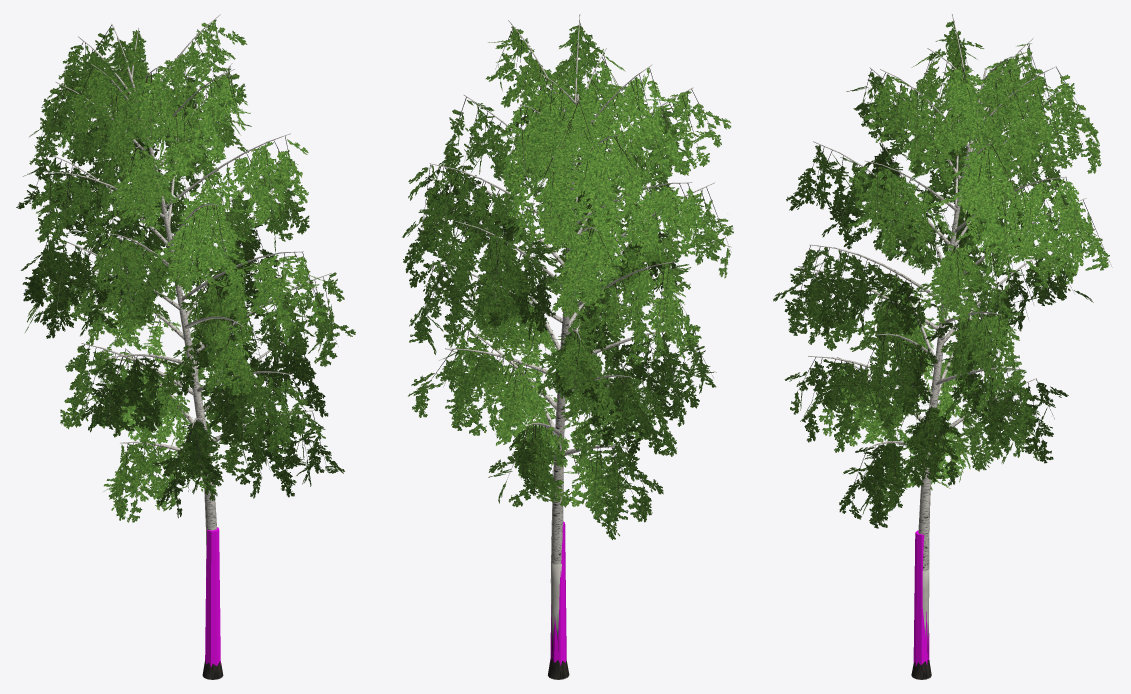
File: EN_Tree_Birch_B.fbx
3 renders of one model, left to right at view 1: azimuth 30°, elevation 25°; view 2: azimuth 150°, elevation 25°; view 3: azimuth 270°, elevation 25°, orthographic. The views are drawn at different scales.
Visible parts, largest first — view 1: EN_Tree_Birch_B_LOD0, COL_Trunk; view 2: EN_Tree_Birch_B_LOD0, COL_Trunk; view 3: EN_Tree_Birch_B_LOD0, COL_Trunk.
Part boxes in pixels (x1,y1,x2,y2): EN_Tree_Birch_B_LOD0: (16,14,355,679); COL_Trunk: (205,527,220,667); EN_Tree_Birch_B_LOD0: (402,14,733,679); COL_Trunk: (550,521,566,665); EN_Tree_Birch_B_LOD0: (773,14,1112,679); COL_Trunk: (913,530,929,666).
Size of what is drawn, in the model's own units: 8.31 by 17.45 by 8.78.
